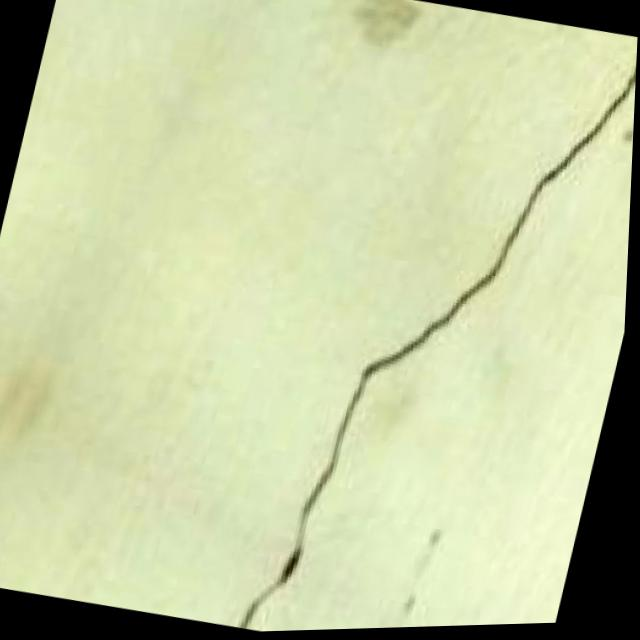Crack: (201, 0, 640, 635)
